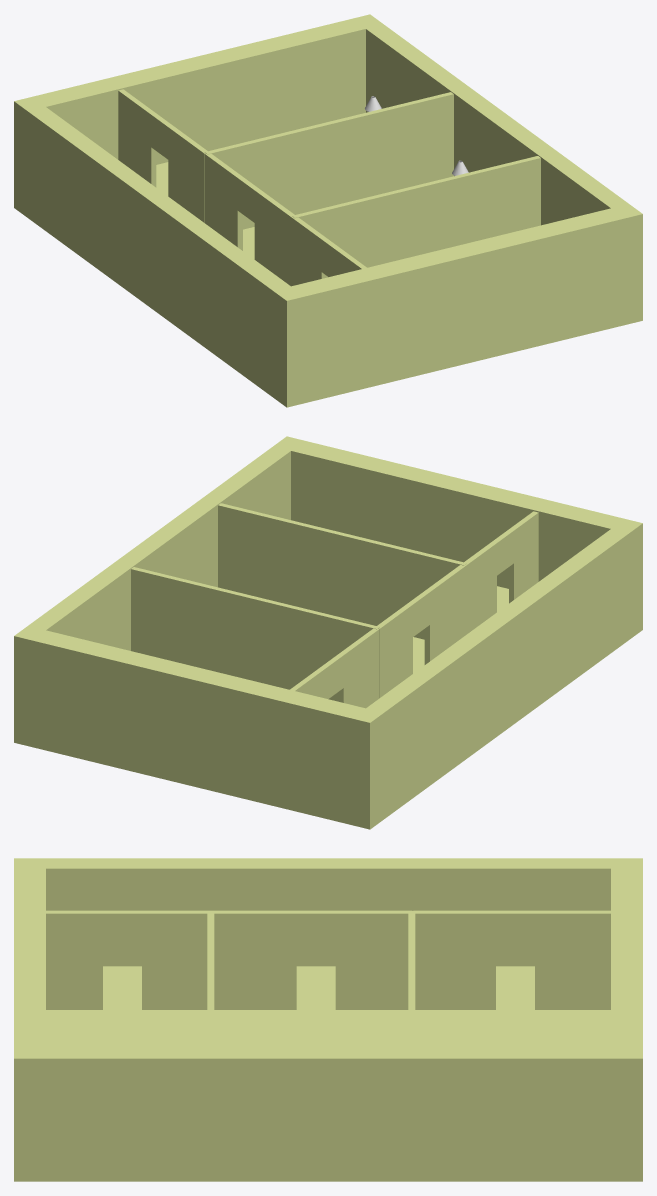
Rendered from piso3.fbx.
The picture shows the model from 3 angles, top to bottom: view 1: azimuth 30°, elevation 25°; view 2: azimuth 150°, elevation 25°; view 3: azimuth 270°, elevation 25°; orthographic projection. The views are drawn at different scales.
Visible parts, largest first — view 1: polySurface20, polySurface21, polySurface19, polySurface9, polySurface22, polySurface10; view 2: polySurface20, polySurface19, polySurface21, polySurface22, polySurface10, polySurface9; view 3: polySurface20, polySurface9, polySurface22, polySurface10, polySurface19, polySurface21.
Part boxes in pixels (x1=…): polySurface20: x1=14, y1=14, x2=642, y2=407; polySurface21: x1=205, y1=92, x2=453, y2=229; polySurface19: x1=292, y1=156, x2=540, y2=277; polySurface9: x1=118, y1=89, x2=207, y2=222; polySurface22: x1=204, y1=153, x2=294, y2=285; polySurface10: x1=288, y1=214, x2=366, y2=286; polySurface20: x1=14, y1=436, x2=642, y2=829; polySurface19: x1=218, y1=503, x2=466, y2=639; polySurface21: x1=131, y1=567, x2=379, y2=701; polySurface22: x1=377, y1=565, x2=464, y2=698; polySurface10: x1=464, y1=511, x2=538, y2=636; polySurface9: x1=290, y1=628, x2=379, y2=708; polySurface20: x1=14, y1=858, x2=642, y2=1181; polySurface9: x1=413, y1=910, x2=610, y2=1009; polySurface22: x1=214, y1=910, x2=411, y2=1009; polySurface10: x1=46, y1=910, x2=218, y2=1009; polySurface19: x1=207, y1=911, x2=214, y2=1048; polySurface21: x1=408, y1=911, x2=415, y2=1048.
Size of the model in its own units: 4.32 by 1.24 by 5.73.
